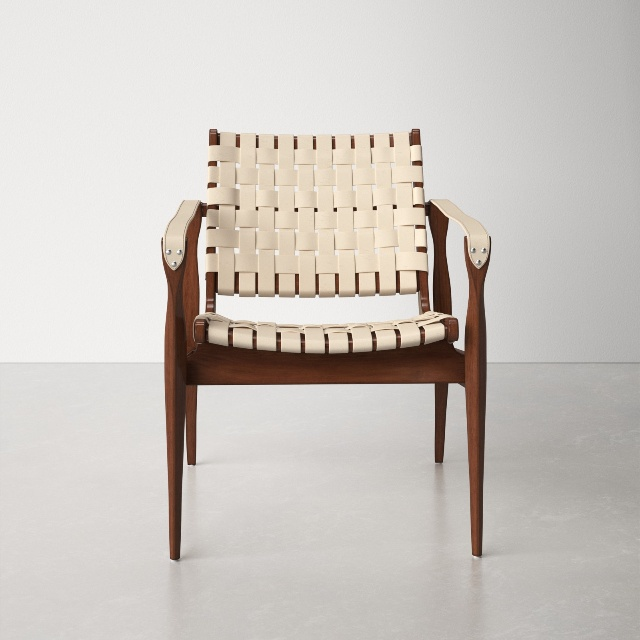obstacle: (162, 130, 490, 559)
